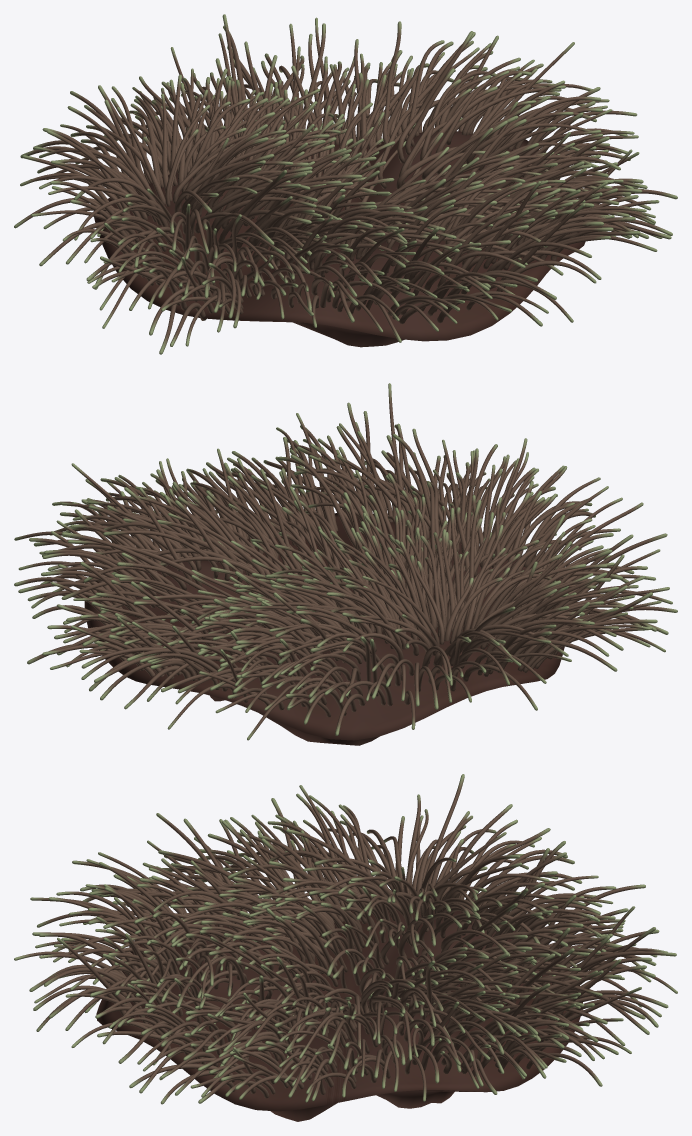
The model's file is anemone_v5_lod1.glb.
3 renders of one model, top to bottom at view 1: azimuth 30°, elevation 25°; view 2: azimuth 150°, elevation 25°; view 3: azimuth 270°, elevation 25°, orthographic.
Visible parts, largest first — view 1: anemone_v5_LOD1; view 2: anemone_v5_LOD1; view 3: anemone_v5_LOD1.
Boxes of the visible parts, <box> form: anemone_v5_LOD1: <box>14,14,677,354</box>; anemone_v5_LOD1: <box>14,383,677,745</box>; anemone_v5_LOD1: <box>14,774,677,1121</box>.
Bounding box in the file's own units: 0.3904 × 0.1252 × 0.3882.
2 materials, 2 textured.
